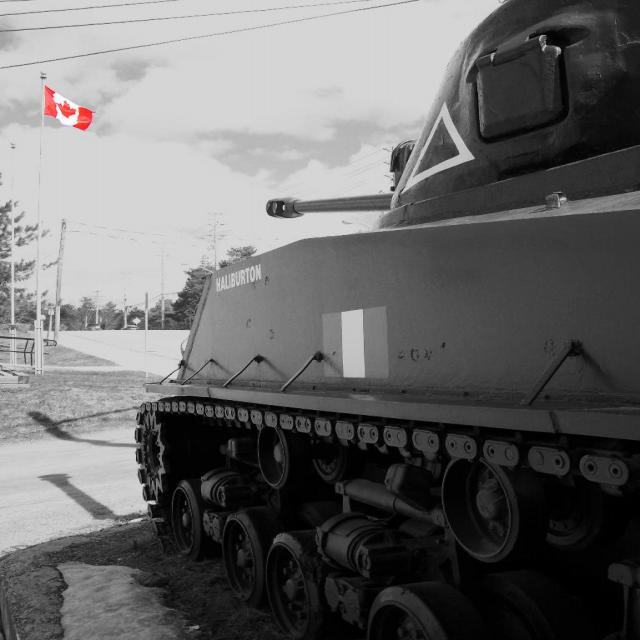tank: (135, 0, 639, 639)
